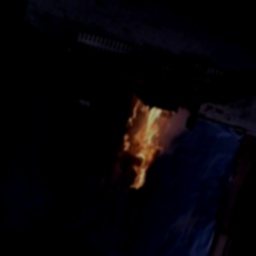fire: (107, 97, 178, 203)
